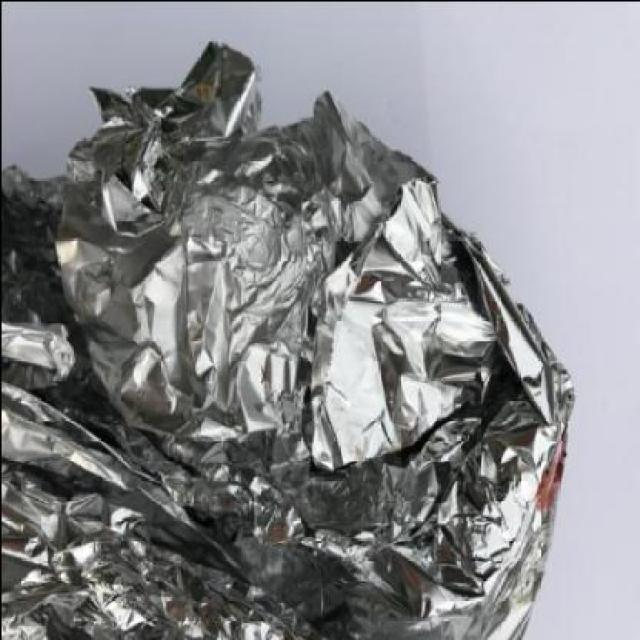METAL: (1, 40, 577, 638)
